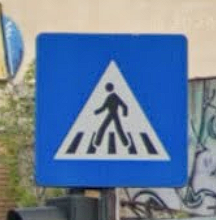trecere_pietoni: (29, 27, 189, 191)
